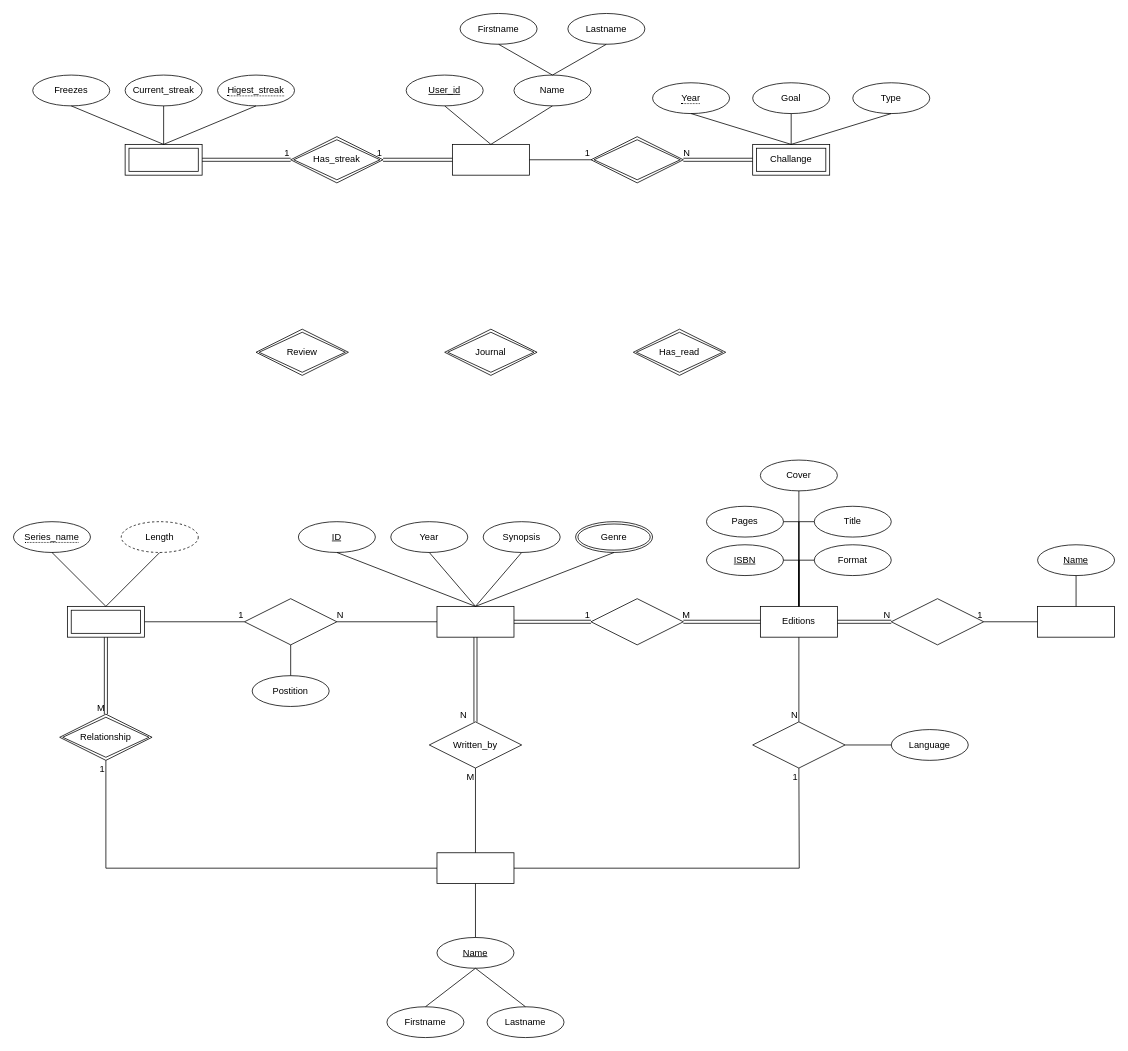
This 1128x1051 diagram has some shape labels left out. The shapes that lost their labels are listed below. From the top down, each one's centre as x and y in pixels, then its label:
At (x=163, y=159): "Streak".
At (x=490, y=159): "User".
At (x=636, y=159): "Has_a".
At (x=105, y=621): "Series".
At (x=290, y=621): "Part_of".
At (x=475, y=621): "Book".
At (x=636, y=621): "Has".
At (x=937, y=621): "Published_by".
At (x=1076, y=621): "Publisher".
At (x=798, y=744): "Translated_by".
At (x=475, y=868): "Contributor".
